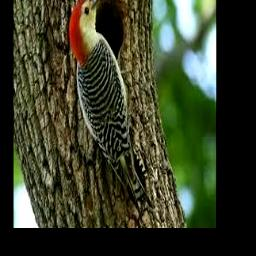Woodpecker: (69, 0, 155, 221)
